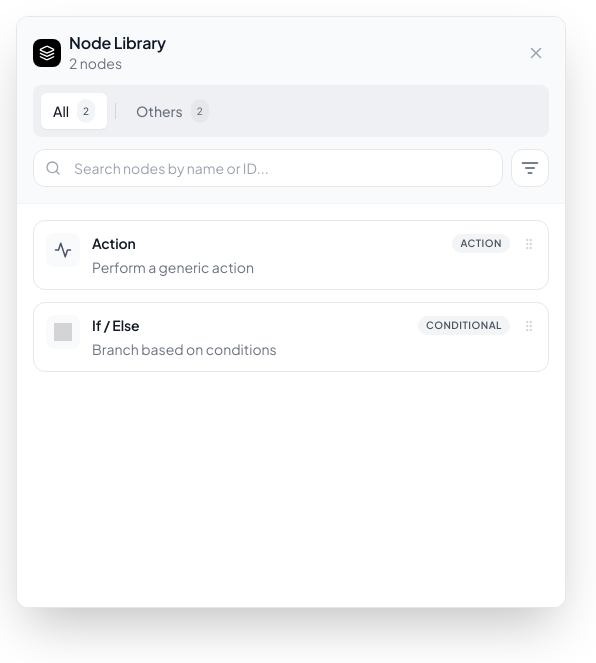
Test case: NodeSelectorPanel › searches nodes across categories
The width and height of the screenshot is (596, 663).
Type "if" into the field with placeholder "Search nodes by name or ID..." at coordinates (268, 168), box [33, 149, 503, 187]
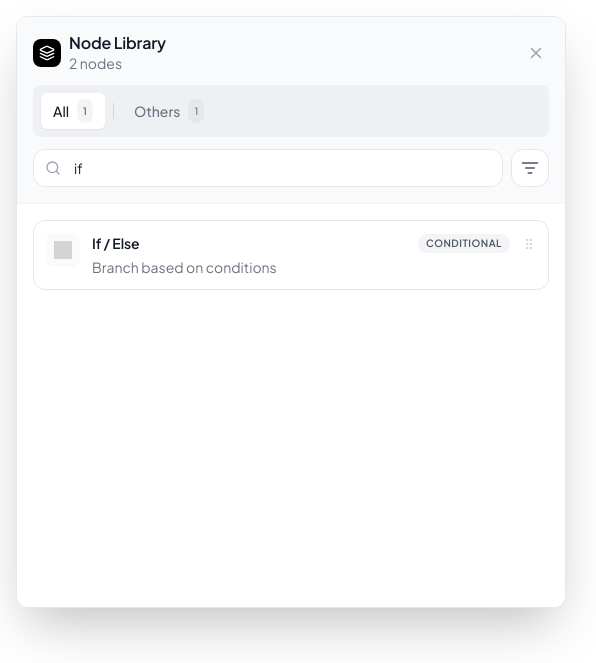
Check: the heading "If / Else" is shown, box [92, 233, 139, 253]
Check: the heading "Action" is gone
